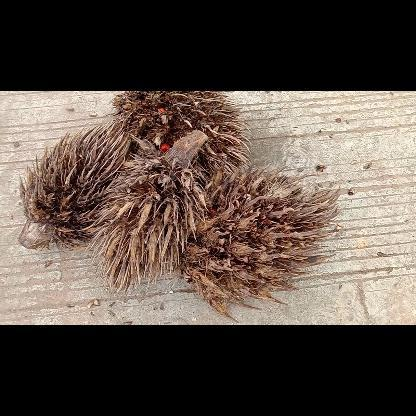Janjang kosong: (178, 168, 344, 318), (88, 129, 208, 291), (18, 120, 130, 254), (110, 91, 250, 171)
